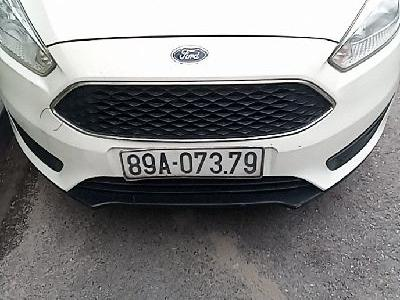car: (118, 148, 267, 181)
